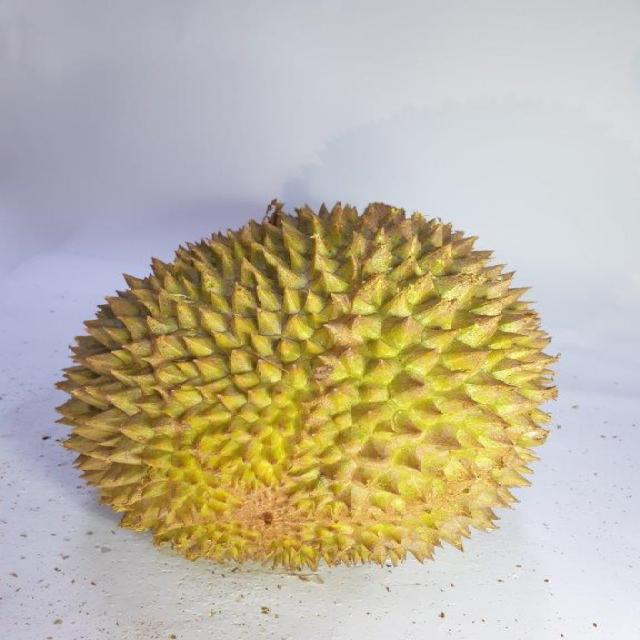immature: (53, 198, 569, 573)
